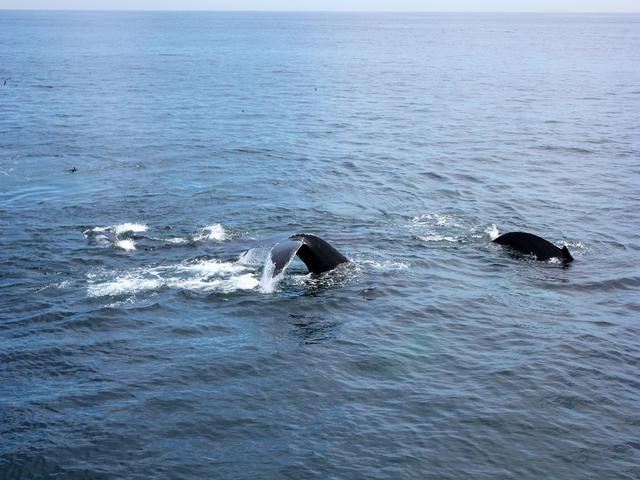dolphin: (459, 210, 590, 276)
